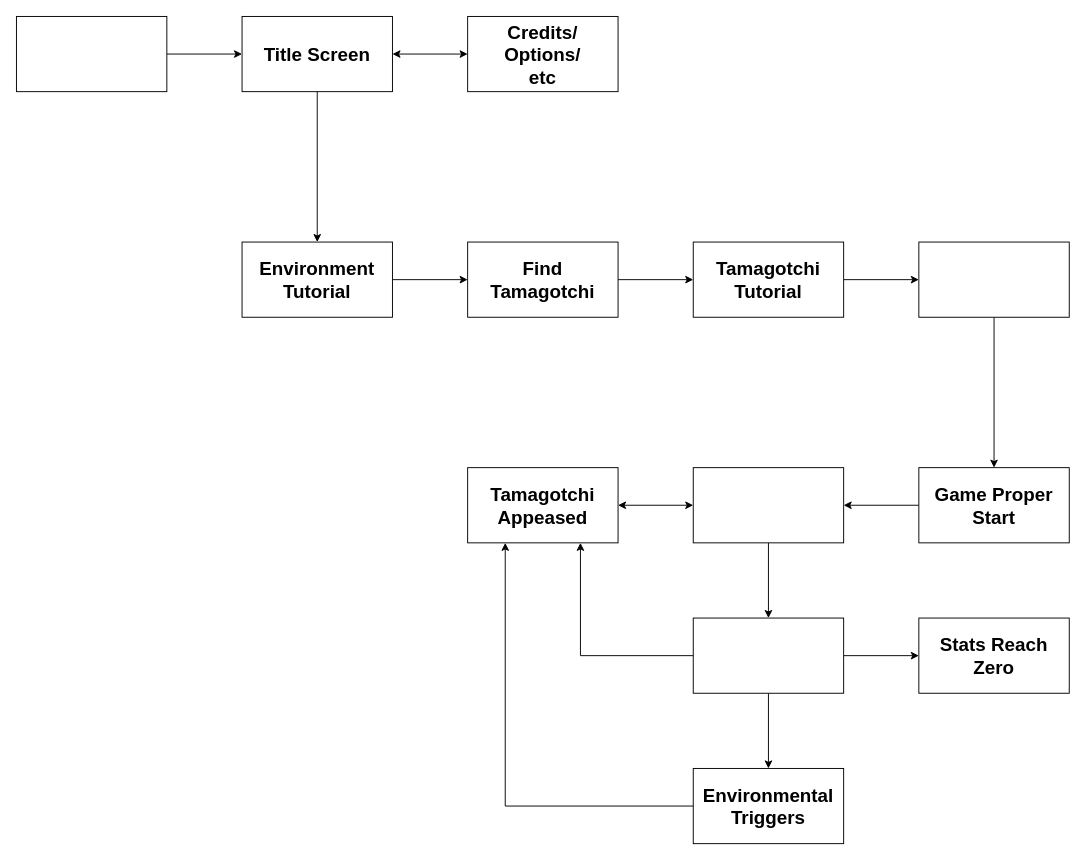
Some shapes in this 1086 by 860 pixel diagram are drawn without their labels. The centre of each missing label's shape, as x and y in pixels:
Game Start: (x=91, y=54)
Return To Entrance: (x=993, y=279)
Stats Get Too Low: (x=768, y=655)
Tamagotchi Stats Go Down: (x=768, y=505)
